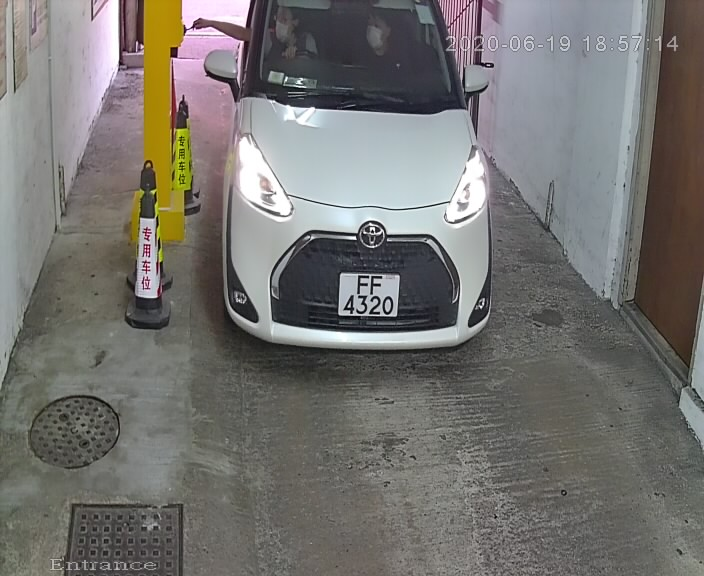privatecar: (206, 3, 504, 363)
